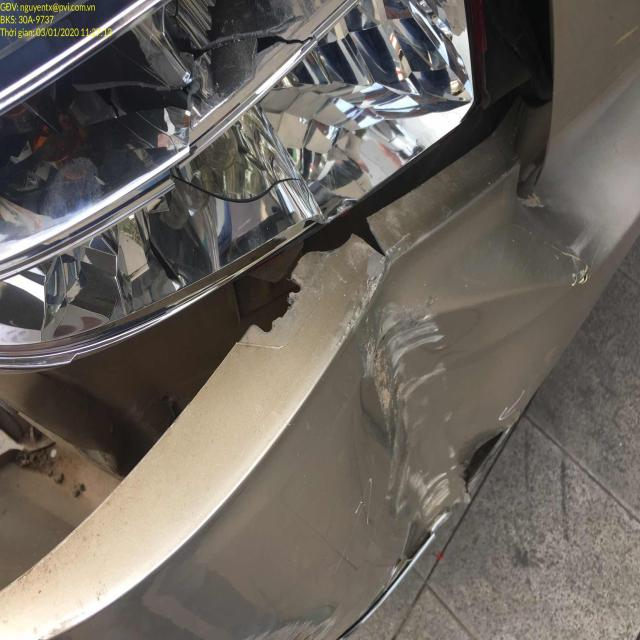Cabossage: (321, 278, 468, 558), (501, 175, 594, 268)
Dechirure: (1, 73, 557, 595), (458, 425, 508, 515)
Phare abime: (11, 0, 470, 361)
Rayure: (361, 302, 458, 552)
